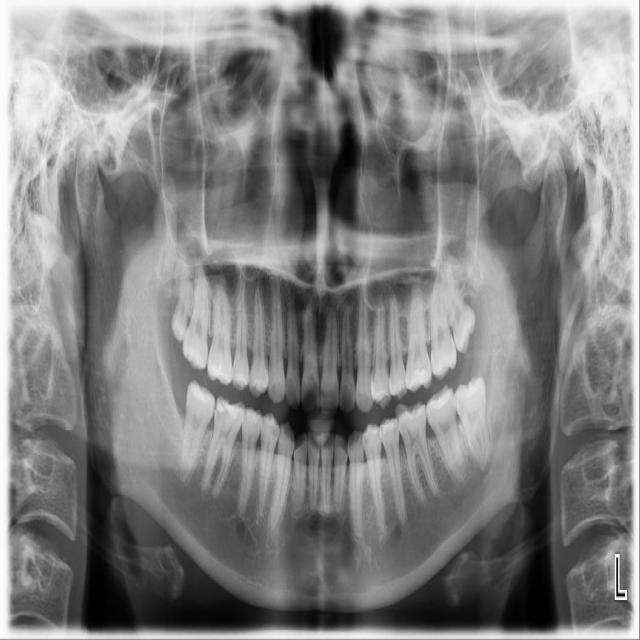Caries: (270, 426, 279, 436)
Filling: (214, 397, 243, 420), (407, 364, 430, 391), (189, 384, 214, 406), (428, 388, 452, 406), (243, 409, 261, 425), (380, 421, 396, 437), (398, 408, 421, 419)
impacted tooth: (455, 377, 494, 471)
